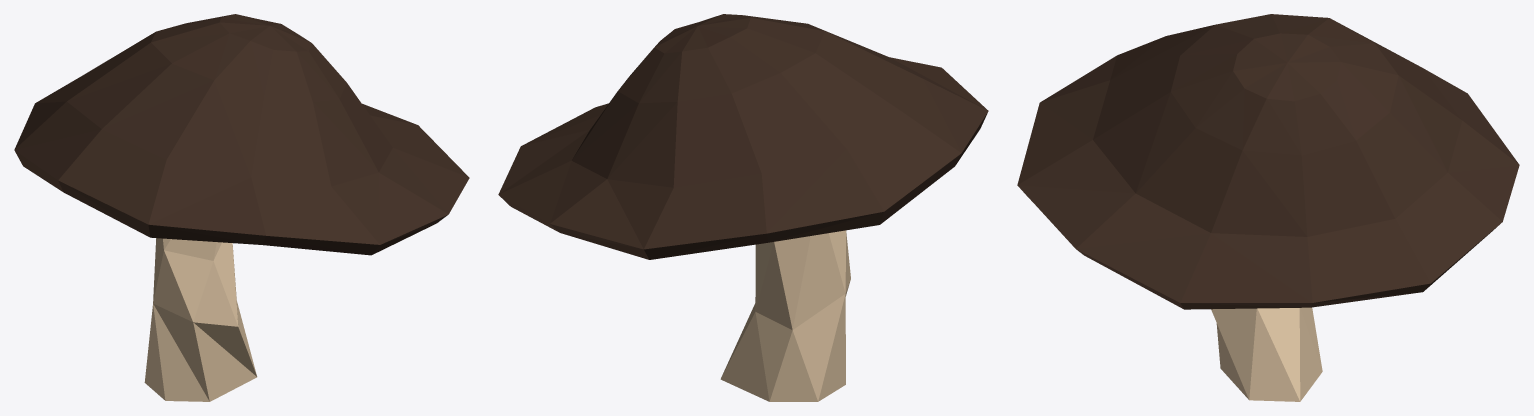
File: Mushroom 2_5.fbx
3 renders of one model, left to right at view 1: azimuth 30°, elevation 25°; view 2: azimuth 150°, elevation 25°; view 3: azimuth 270°, elevation 25°, orthographic. The views are drawn at different scales.
Parts seen in each view (by area): view 1: Mushroom 2_5; view 2: Mushroom 2_5; view 3: Mushroom 2_5.
Boxes of the visible parts, x1,y1,x2,y2 form: Mushroom 2_5: (14,14,469,401); Mushroom 2_5: (498,14,988,401); Mushroom 2_5: (1017,14,1519,401).
Bounding box in the file's own units: 0.4633 × 0.3796 × 0.4795.
